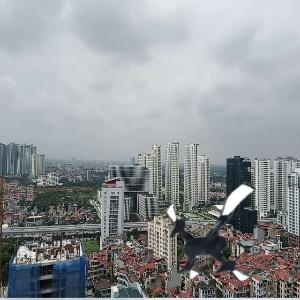drone: (160, 175, 279, 294)
